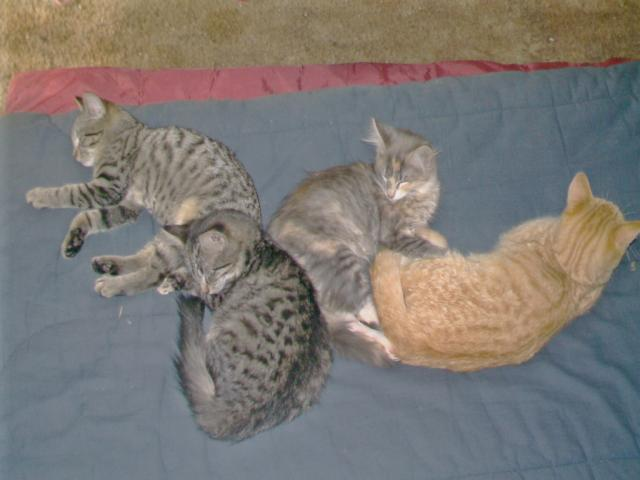Cat: (364, 171, 640, 377), (25, 96, 264, 300), (267, 119, 449, 365), (170, 205, 331, 451)
